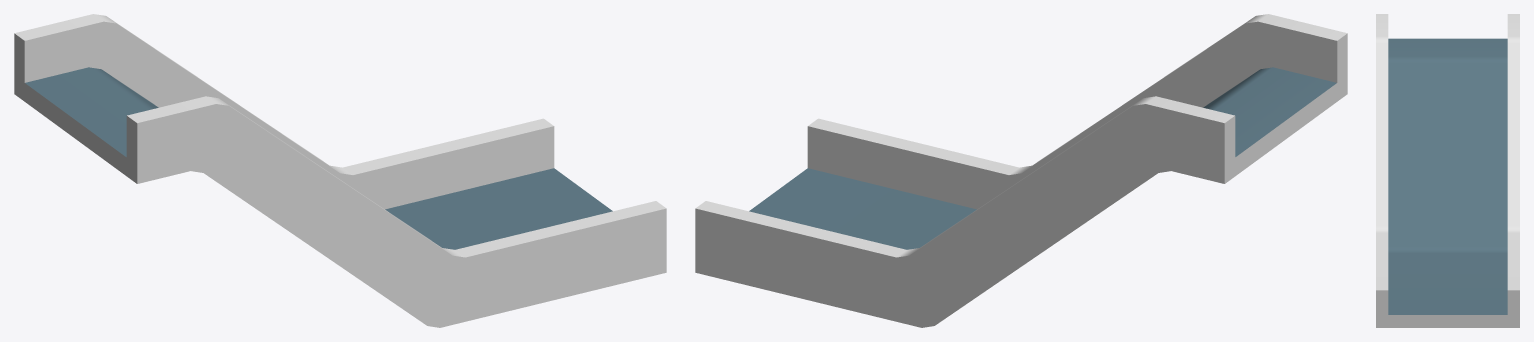
File: gangway_001.fbx
3 renders of one model, left to right at view 1: azimuth 30°, elevation 25°; view 2: azimuth 150°, elevation 25°; view 3: azimuth 270°, elevation 25°, orthographic. The views are drawn at different scales.
Parts seen in each view (by area): view 1: gangway_001; view 2: gangway_001; view 3: gangway_001.
Boxes of the visible parts, box(x1,y1,x2,y2) form: gangway_001: box(14, 14, 666, 327); gangway_001: box(695, 14, 1347, 327); gangway_001: box(1376, 14, 1519, 327).
Size of the model in its own units: 1100 by 442 by 553.
